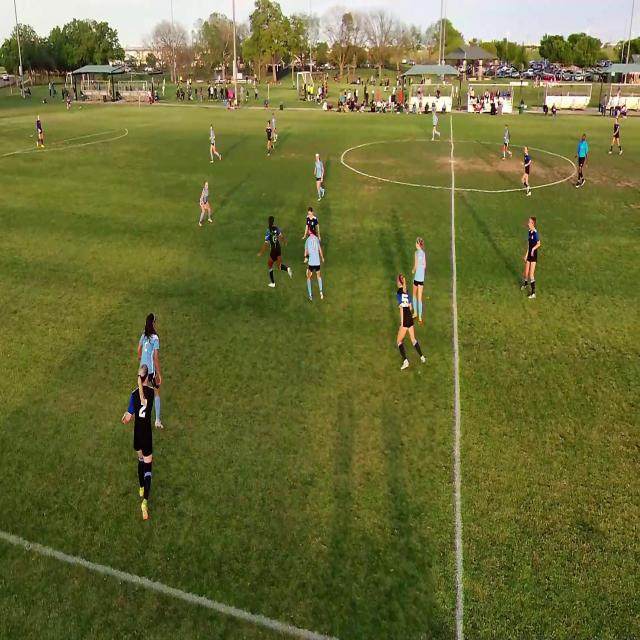ball: (306, 267, 313, 279)
team1: (126, 353, 158, 523), (395, 271, 425, 373), (262, 213, 292, 289), (523, 212, 543, 300), (304, 207, 322, 239), (522, 145, 533, 196), (610, 116, 622, 155), (266, 116, 274, 156)
team2: (141, 316, 164, 431), (306, 223, 327, 302), (412, 239, 428, 320), (198, 178, 214, 228), (314, 152, 326, 202), (210, 126, 222, 163), (503, 123, 513, 160), (433, 103, 442, 144), (269, 111, 277, 151)
